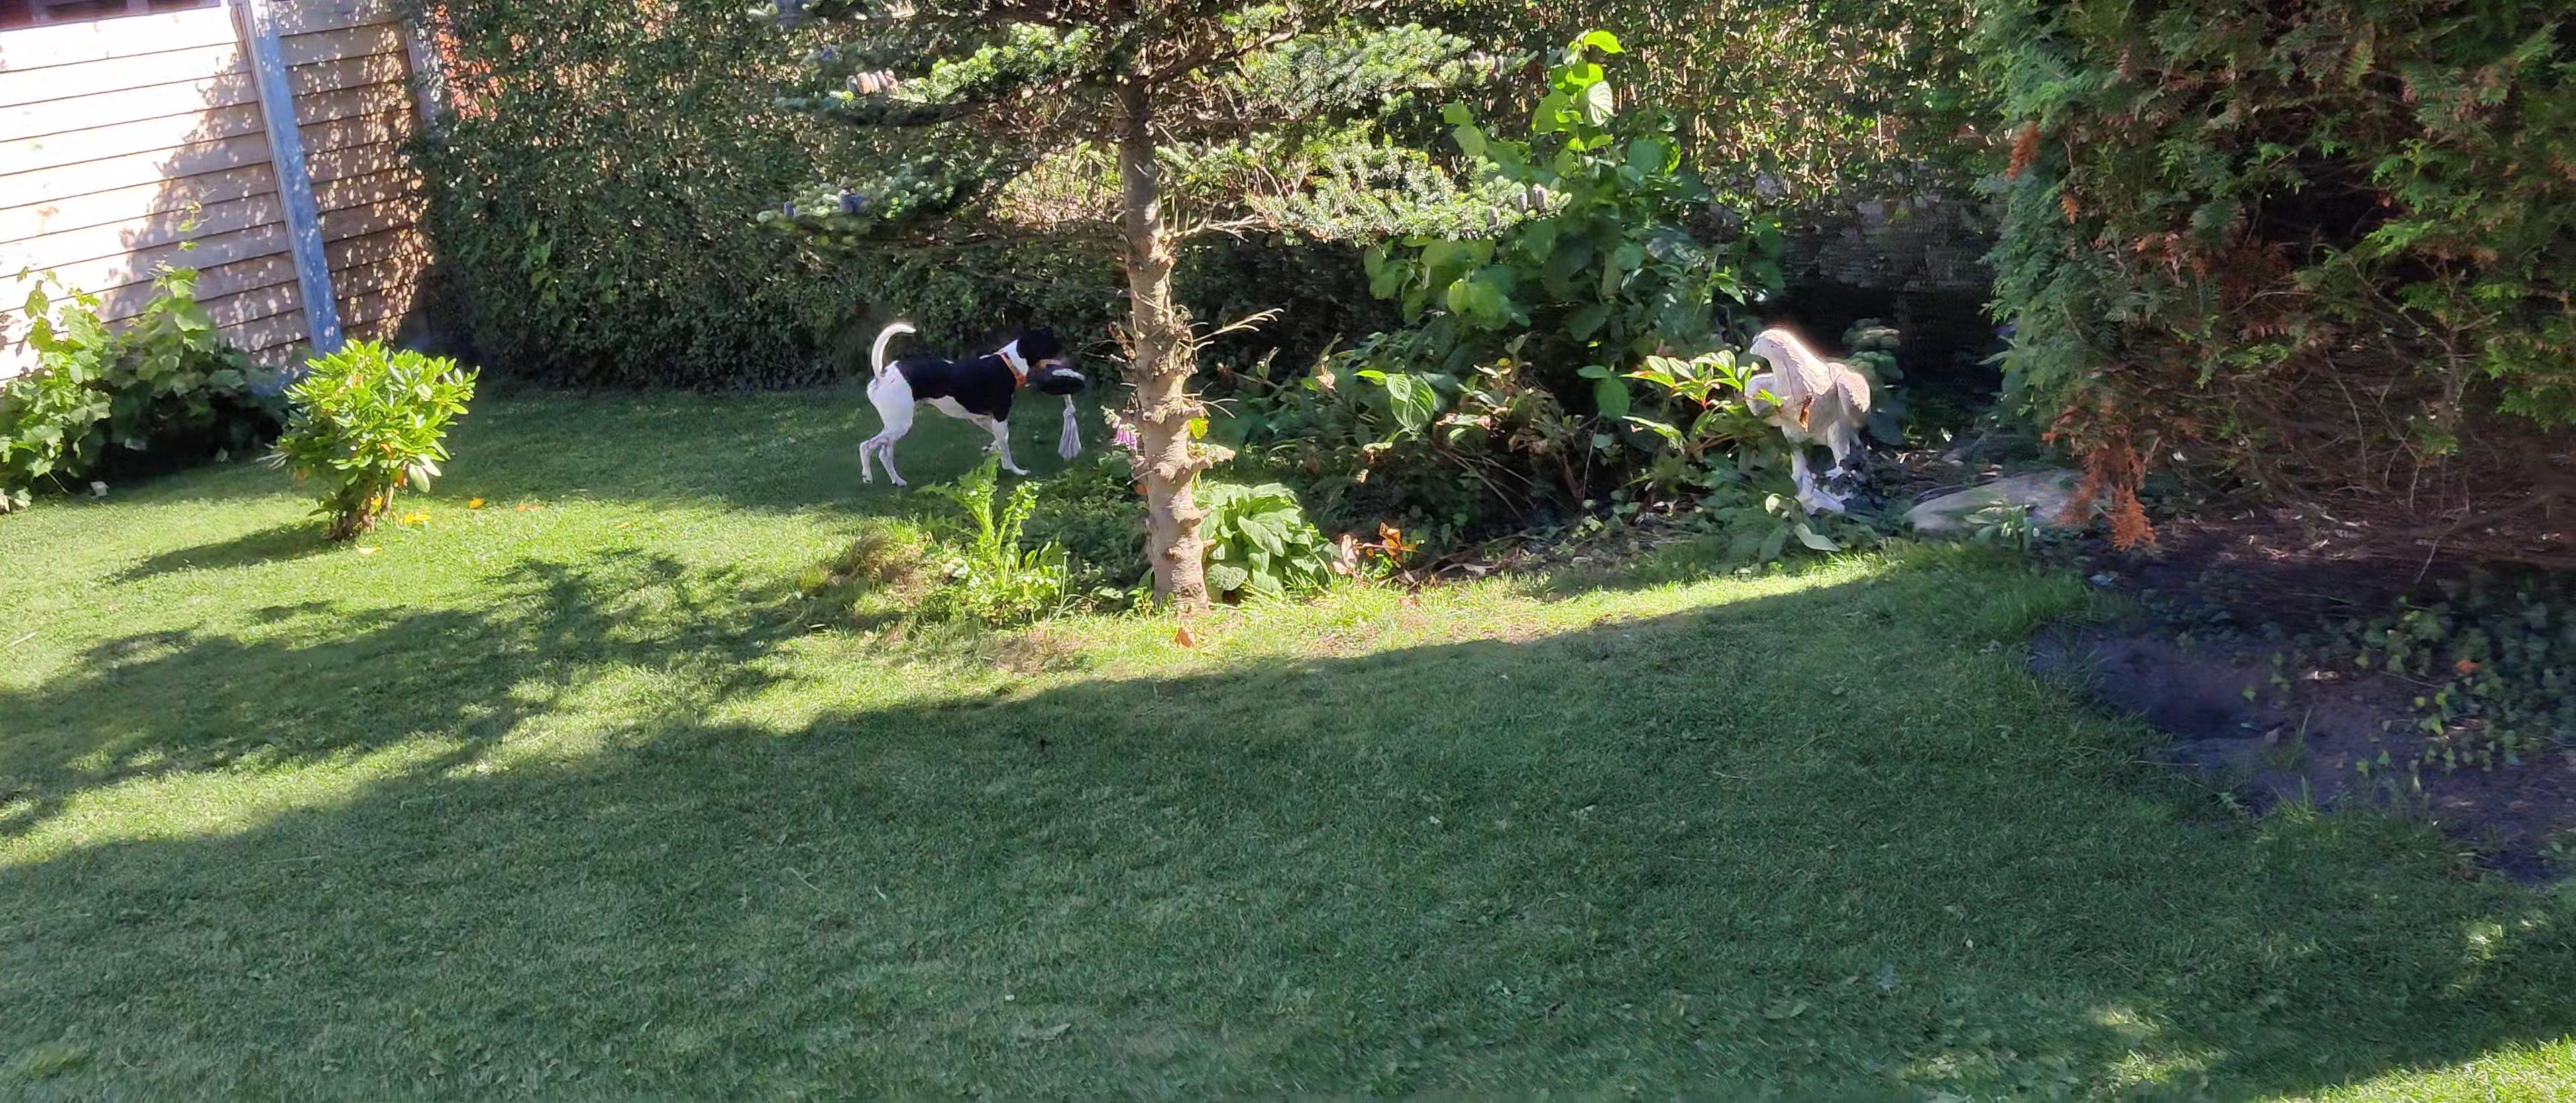Dog: (858, 322, 1078, 487)
